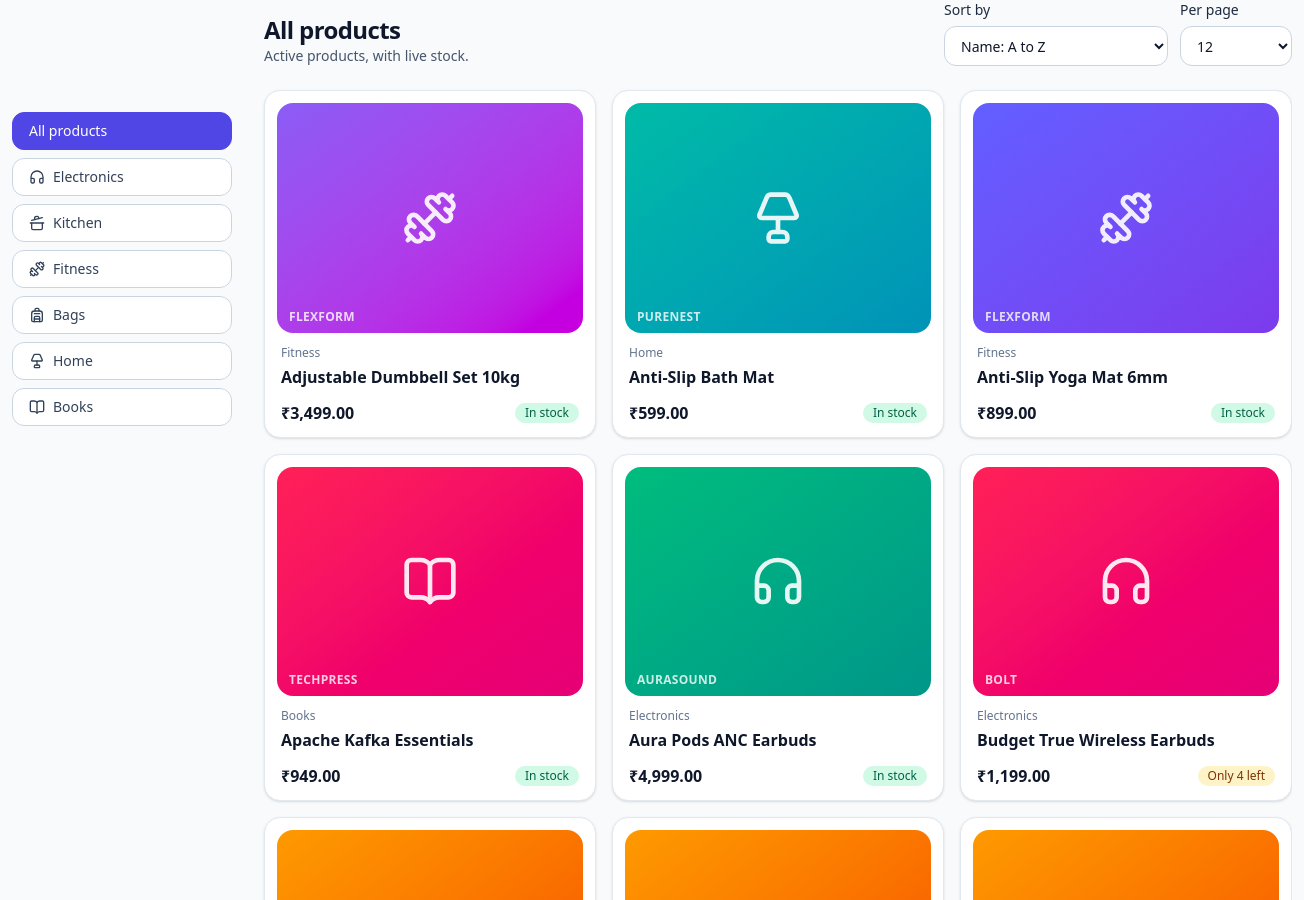
Test: CataloguePage › changes the sort order in the URL
The image size is (1304, 900).
Select "Price: high to low" in the dropdown labelled "Sort by": [1056, 46] box [944,26,1168,66]
(page scrolled)
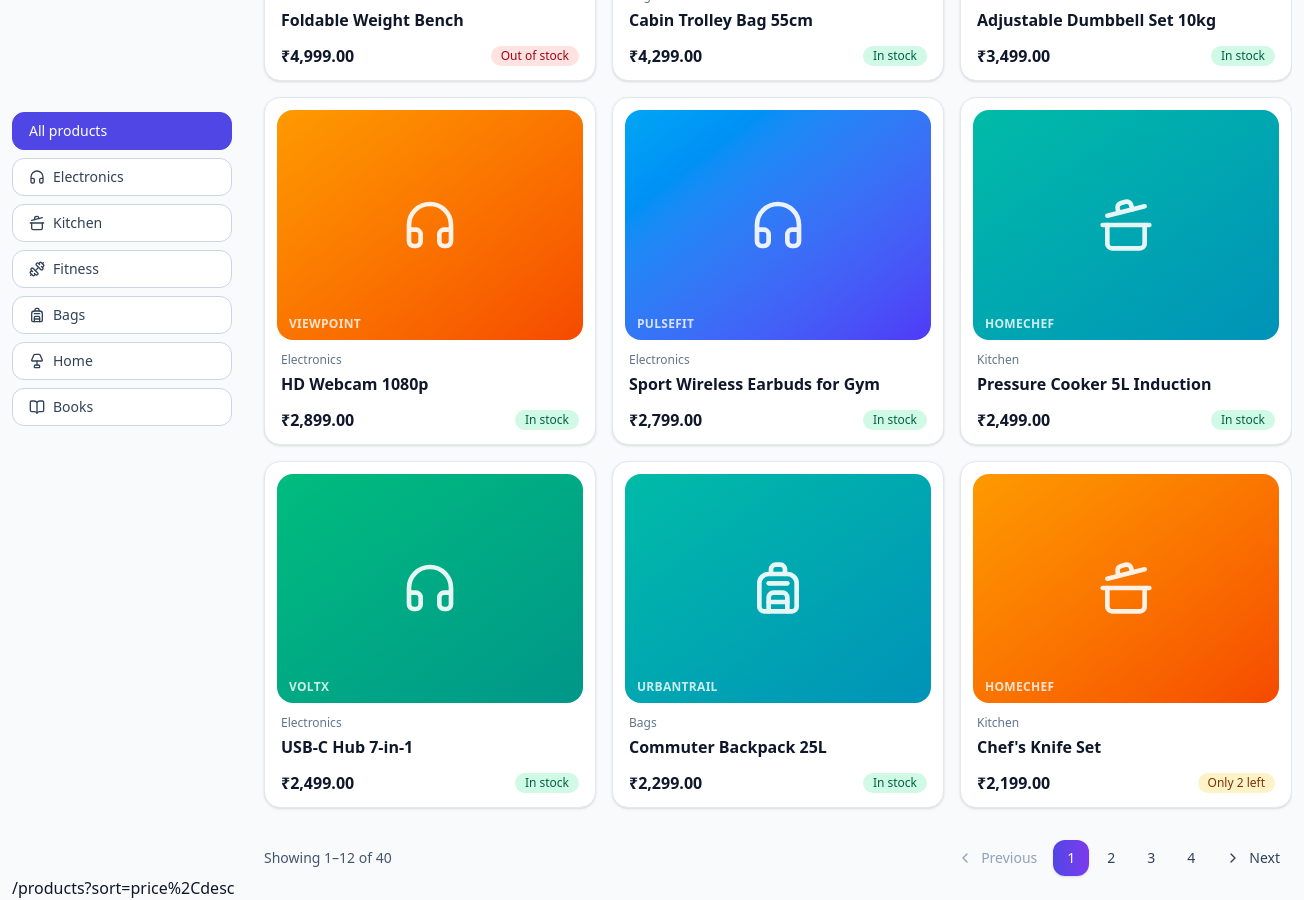
Now the text with test id "location" reads "/products?sort=price%2Cdesc", box [12,877,234,899]
